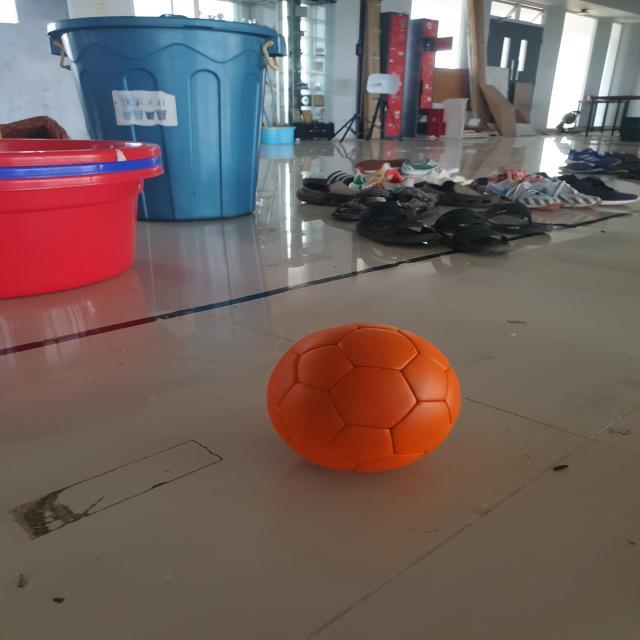bola: (229, 306, 486, 476)
